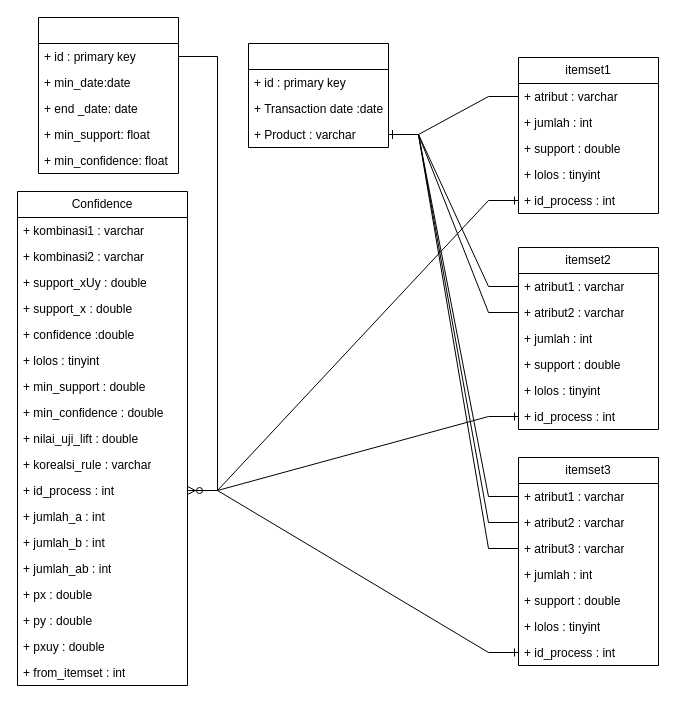
This 676x706 diagram has some shape labels left out. The shapes that lost their labels are listed below. From the top down, each one's box as (x1, y1, x2, y2) in pixels, then its label:
(38, 16, 178, 174): Process_log
(248, 42, 388, 148): Transaksi
